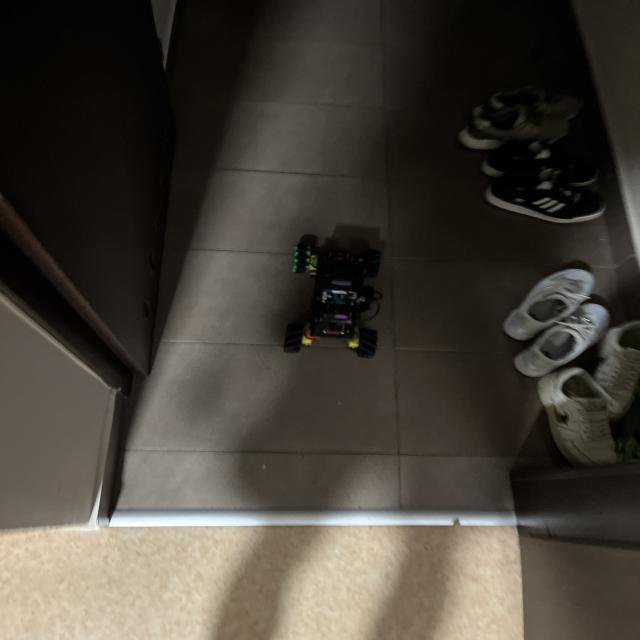robot: (283, 226, 382, 358)
